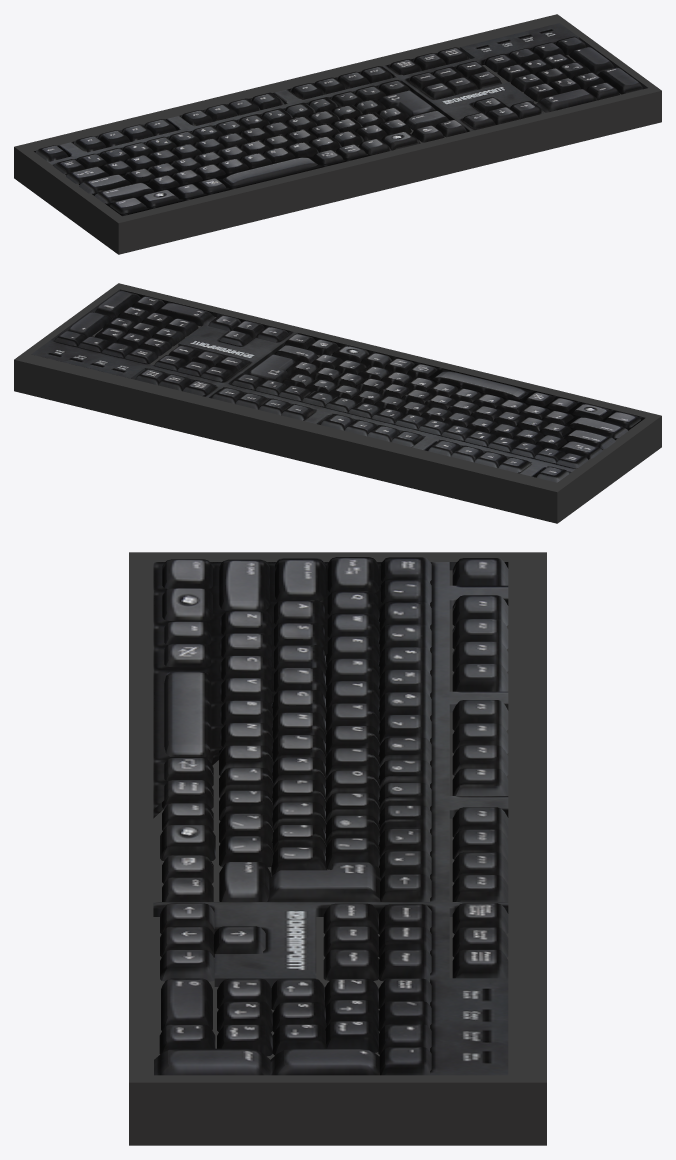
Rendered from keyboard.fbx.
3 renders of one model, top to bottom at view 1: azimuth 30°, elevation 25°; view 2: azimuth 150°, elevation 25°; view 3: azimuth 270°, elevation 25°, orthographic. The views are drawn at different scales.
Visible parts, largest first — view 1: keyboard, space, Ins, Enter, Shift, Enter2, plus2, CapsLock, Shift2, Windows2, Tab, Windows (+36 smaller); view 2: keyboard, space, Enter, Ins, Shift, Enter2, plus2, CapsLock, Shift2, Tab, Windows, Windows2 (+12 smaller); view 3: keyboard, space, Enter, Enter2, plus2, Shift, Ins, CapsLock, Shift2, Tab, Windows2, PageDown (+98 smaller).
Part boxes in pixels (x1,y1,x2,y2): keyboard: (14, 14, 661, 254); space: (223, 157, 317, 185); Ins: (536, 89, 597, 112); Enter: (377, 90, 435, 115); Shift: (94, 182, 153, 203); Enter2: (597, 67, 643, 94); plus2: (569, 47, 614, 74); CapsLock: (79, 174, 130, 193); Shift2: (404, 110, 448, 130); Windows2: (381, 131, 420, 150); Tab: (66, 166, 109, 184); Windows: (139, 189, 178, 206); keyboard: (14, 283, 661, 523); space: (430, 371, 527, 399); Enter: (247, 354, 295, 382); Ins: (155, 302, 215, 326); Shift: (568, 417, 627, 438); Enter2: (95, 290, 140, 318); plus2: (68, 312, 111, 337); CapsLock: (564, 429, 615, 448); Shift2: (274, 345, 318, 363); Tab: (559, 441, 602, 458); Windows: (572, 403, 611, 420); Windows2: (331, 345, 369, 362); keyboard: (129, 552, 546, 1145); space: (164, 672, 213, 763); Enter: (267, 862, 381, 901); Enter2: (154, 1048, 270, 1075); plus2: (270, 1048, 379, 1075); Shift: (219, 559, 269, 610); Ins: (161, 978, 212, 1030); CapsLock: (275, 557, 325, 600); Shift2: (219, 862, 270, 901); Tab: (327, 557, 378, 592); Windows2: (160, 825, 215, 860); PageDown: (323, 949, 378, 980).
Bounding box in the file's own units: 45 × 2.78 × 15.
